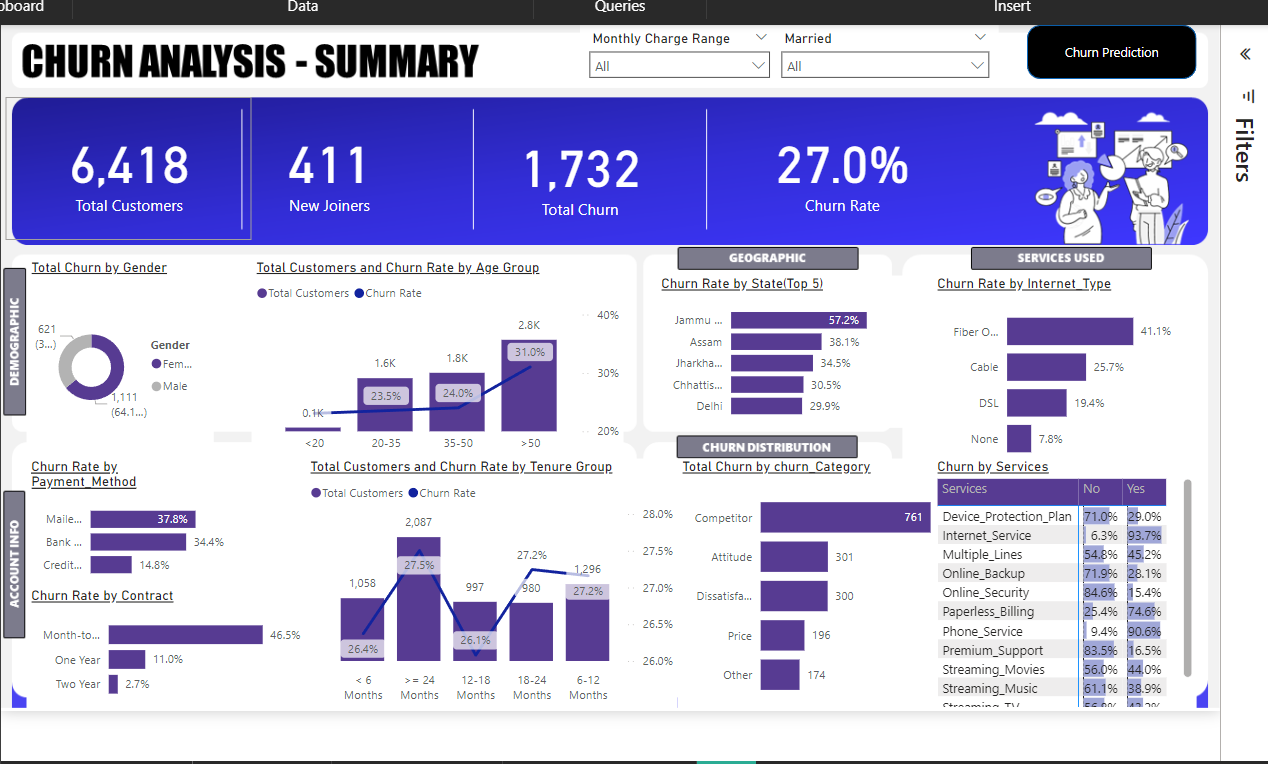

Layout of this report page (visuals, bound fields, positions):
{"tool":"powerbi","page":{"name":"Summary","canvas":[1280,720],"ordinal":0},"visuals":[{"type":"card","fields":{"Values":["tbl_Measures.Total Customers"]},"box":[4.1,74.9,259.2,149.9],"z":0},{"type":"card","fields":{"Values":["tbl_Measures.New Joiners"]},"box":[204.6,74.9,279.5,149.9],"z":1000},{"type":"card","fields":{"Values":["tbl_Measures.Total Churn"]},"box":[506.3,85.1,204.6,139.7],"z":2000},{"type":"card","fields":{"Values":["tbl_Measures.Churn Rate"]},"box":[743.3,74.9,279.5,149.9],"z":3000},{"type":"donutChart","fields":{"Category":["prod_churn.Gender"],"Y":["tbl_Measures.Total Churn"]},"box":[26.3,245.1,196.5,210.6],"z":4000},{"type":"lineStackedColumnComboChart","fields":{"Y2":["tbl_Measures.Churn Rate"],"Y":["tbl_Measures.Total Customers"],"Category":["mapping_AgeGrp.Age Group"]},"box":[263.3,245.1,390.9,210.6],"z":5000},{"type":"clusteredBarChart","fields":{"Category":["prod_churn.Payment_Method"],"Y":["tbl_Measures.Churn Rate"]},"box":[26.3,455.7,214.7,135.7],"z":6000},{"type":"clusteredBarChart","fields":{"Category":["prod_churn.Contract"],"Y":["tbl_Measures.Churn Rate"]},"box":[26.3,591.4,293.7,127.6],"z":7000},{"type":"lineStackedColumnComboChart","fields":{"Category":["mapping_TenureGrp.Tenure Group"],"Y":["tbl_Measures.Total Customers"],"Y2":["tbl_Measures.Churn Rate"]},"box":[320,455.7,390.9,263.3],"z":8000},{"type":"clusteredBarChart","title":"Churn Rate by State(Top 5)","fields":{"Category":["prod_churn.State"],"Y":["tbl_Measures.Churn Rate"]},"box":[688.6,263.3,259.2,160],"z":9000},{"type":"clusteredBarChart","fields":{"Category":["prod_churn.churn_Category"],"Y":["tbl_Measures.Total Churn"]},"box":[710.9,455.7,295.7,265.3],"z":10000},{"type":"clusteredBarChart","fields":{"Category":["prod_churn.Internet_Type"],"Y":["tbl_Measures.Churn Rate"]},"box":[978.2,263.3,259.2,206.6],"z":11000},{"type":"pivotTable","title":"Churn by  Services","fields":{"Rows":["prod_Services.Services"],"Columns":["prod_Services.Status"],"Values":["Sum(prod_Services.Churn Status)"]},"box":[978.2,455.7,277.5,265.3],"z":12000},{"type":"slicer","fields":{"Values":["prod_Services.Monthly Charge Status"]},"box":[608,0,209.5,56.7],"z":13000},{"type":"slicer","fields":{"Values":["prod_Services.Married"]},"box":[809.6,0,237.8,56.7],"z":14000},{"type":"shape","box":[1077.4,0,178,56.7],"z":15000}]}

Visuals, with their boxes on the page's 1280x720 design canvas (x1, y1, x2, y2). These are canvas units, not pixel positions in the 1268x764 screenshot, which may show the page scaled, cropped or inside an application window:
card - tbl_Measures.Total Customers: <box>4,75,263,225</box>
card - tbl_Measures.New Joiners: <box>205,75,484,225</box>
card - tbl_Measures.Total Churn: <box>506,85,711,225</box>
card - tbl_Measures.Churn Rate: <box>743,75,1023,225</box>
donutChart - prod_churn.Gender x tbl_Measures.Total Churn: <box>26,245,223,456</box>
lineStackedColumnComboChart - tbl_Measures.Churn Rate x tbl_Measures.Total Customers: <box>263,245,654,456</box>
clusteredBarChart - prod_churn.Payment_Method x tbl_Measures.Churn Rate: <box>26,456,241,591</box>
clusteredBarChart - prod_churn.Contract x tbl_Measures.Churn Rate: <box>26,591,320,719</box>
lineStackedColumnComboChart - mapping_TenureGrp.Tenure Group x tbl_Measures.Total Customers: <box>320,456,711,719</box>
"Churn Rate by State(Top 5)" clusteredBarChart: <box>689,263,948,423</box>
clusteredBarChart - prod_churn.churn_Category x tbl_Measures.Total Churn: <box>711,456,1007,721</box>
clusteredBarChart - prod_churn.Internet_Type x tbl_Measures.Churn Rate: <box>978,263,1237,470</box>
"Churn by  Services" pivotTable: <box>978,456,1256,721</box>
slicer - prod_Services.Monthly Charge Status: <box>608,0,818,57</box>
slicer - prod_Services.Married: <box>810,0,1047,57</box>
shape: <box>1077,0,1255,57</box>
